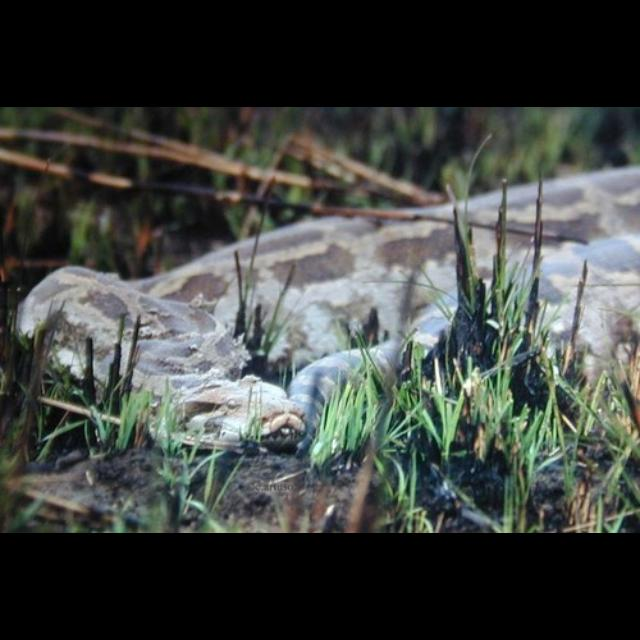snake: (12, 158, 640, 460)
